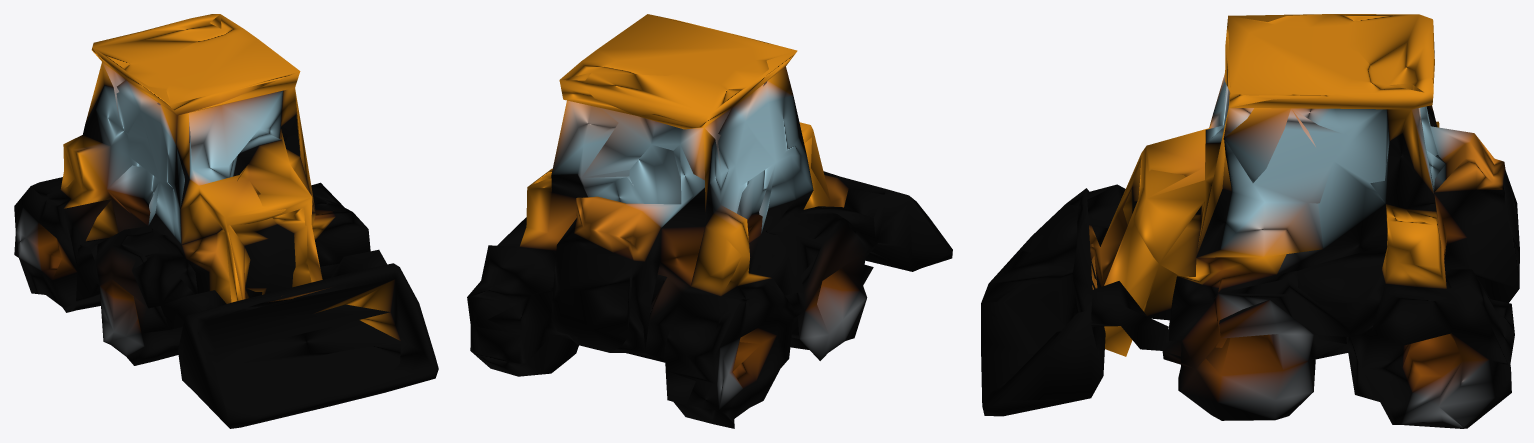
Rendered from gen3d-bulldozer-lod0.glb.
The picture shows the model from 3 angles, left to right: view 1: azimuth 30°, elevation 25°; view 2: azimuth 150°, elevation 25°; view 3: azimuth 270°, elevation 25°; orthographic projection. The views are drawn at different scales.
Parts seen in each view (by area): view 1: part_0; view 2: part_0; view 3: part_0.
Boxes of the visible parts, left/top/right/bottom form: part_0: left=14, top=14, right=438, bottom=428; part_0: left=467, top=14, right=952, bottom=428; part_0: left=981, top=14, right=1519, bottom=428.
Size of the model in its own units: 0.9125 by 0.9949 by 1.55.
